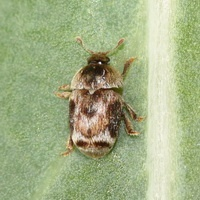insect: (55, 37, 142, 157)
